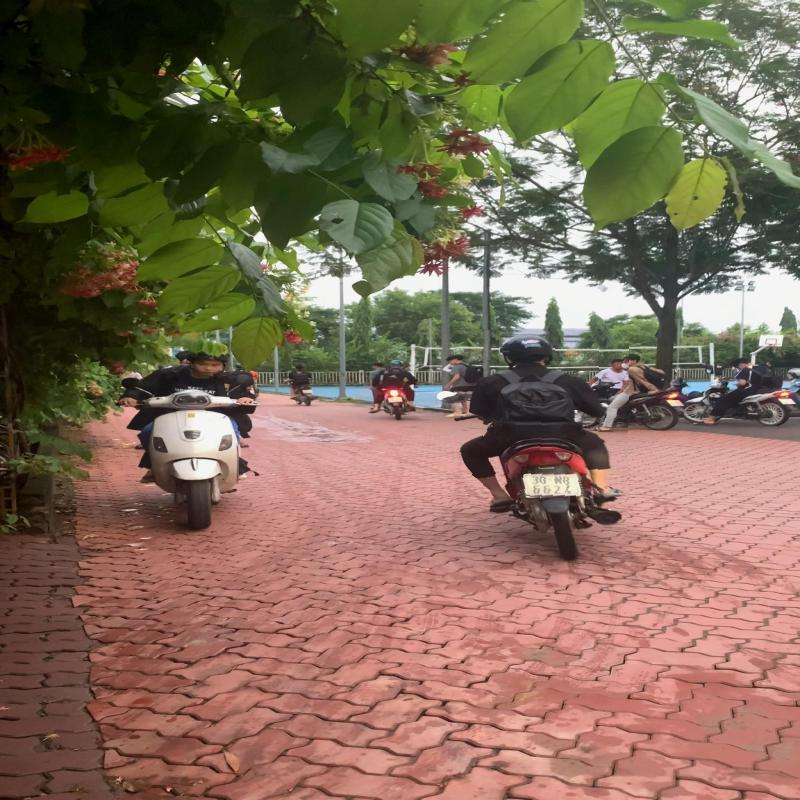helmet: (499, 334, 555, 363)
licenseplate: (520, 470, 586, 500)
motorcyclist: (452, 330, 629, 561)
